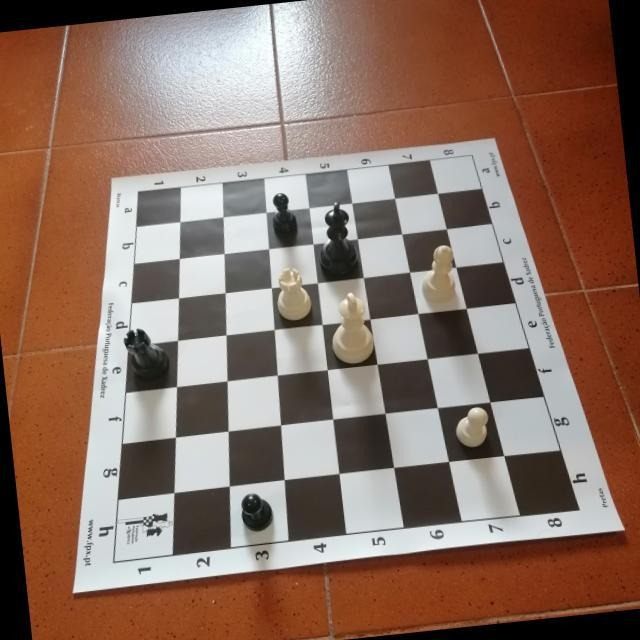black-king: (311, 198, 360, 280)
black-pawn: (237, 488, 274, 533), (269, 190, 299, 236)
black-rook: (121, 324, 171, 384)
white-bishop: (416, 242, 460, 306)
white-king: (326, 289, 378, 366)
white-pawn: (452, 404, 492, 449)
white-rook: (271, 263, 313, 322)
